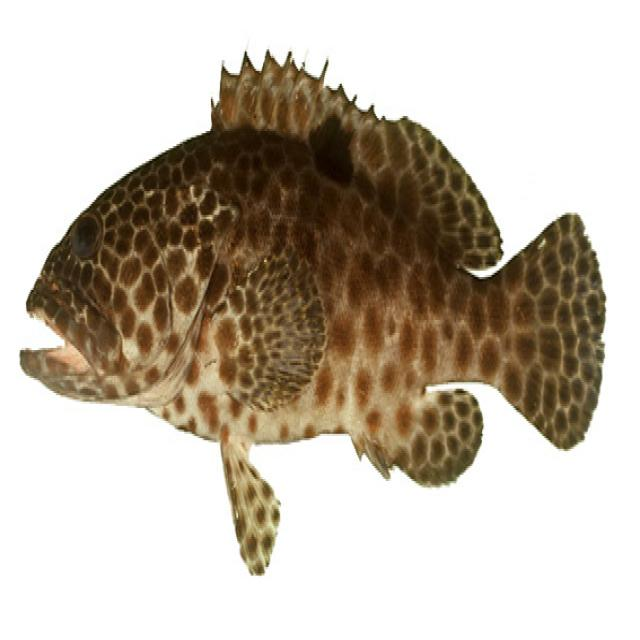ikan: (19, 45, 606, 578)
